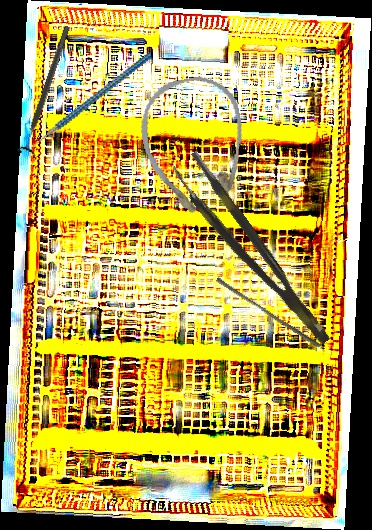Cannula: (132, 70, 259, 228)
Chopper: (9, 52, 171, 161)
Fixation Ring: (15, 23, 78, 158)
Pusher: (213, 276, 324, 349)
Tissue Forceps: (169, 150, 333, 357)
